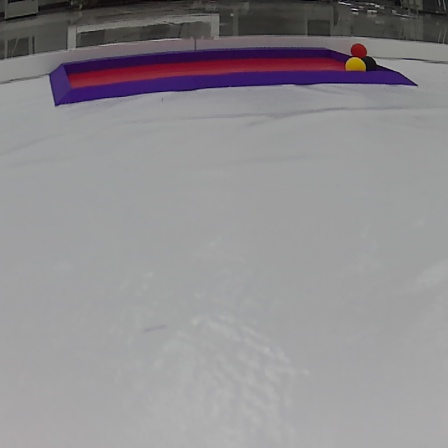black: (363, 54, 380, 74)
red: (346, 39, 370, 59)
red_aim: (43, 44, 420, 97)
yellow: (344, 57, 364, 74)
